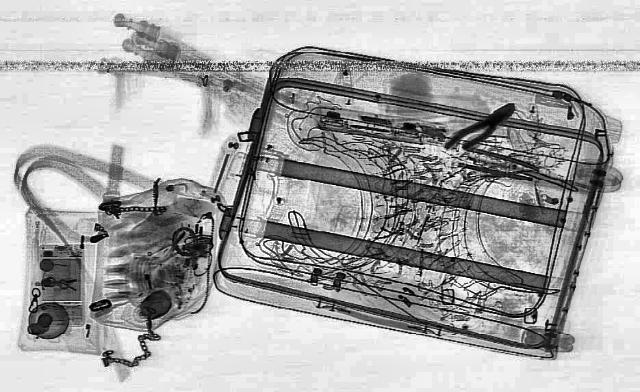Pliers: (438, 97, 526, 156)
